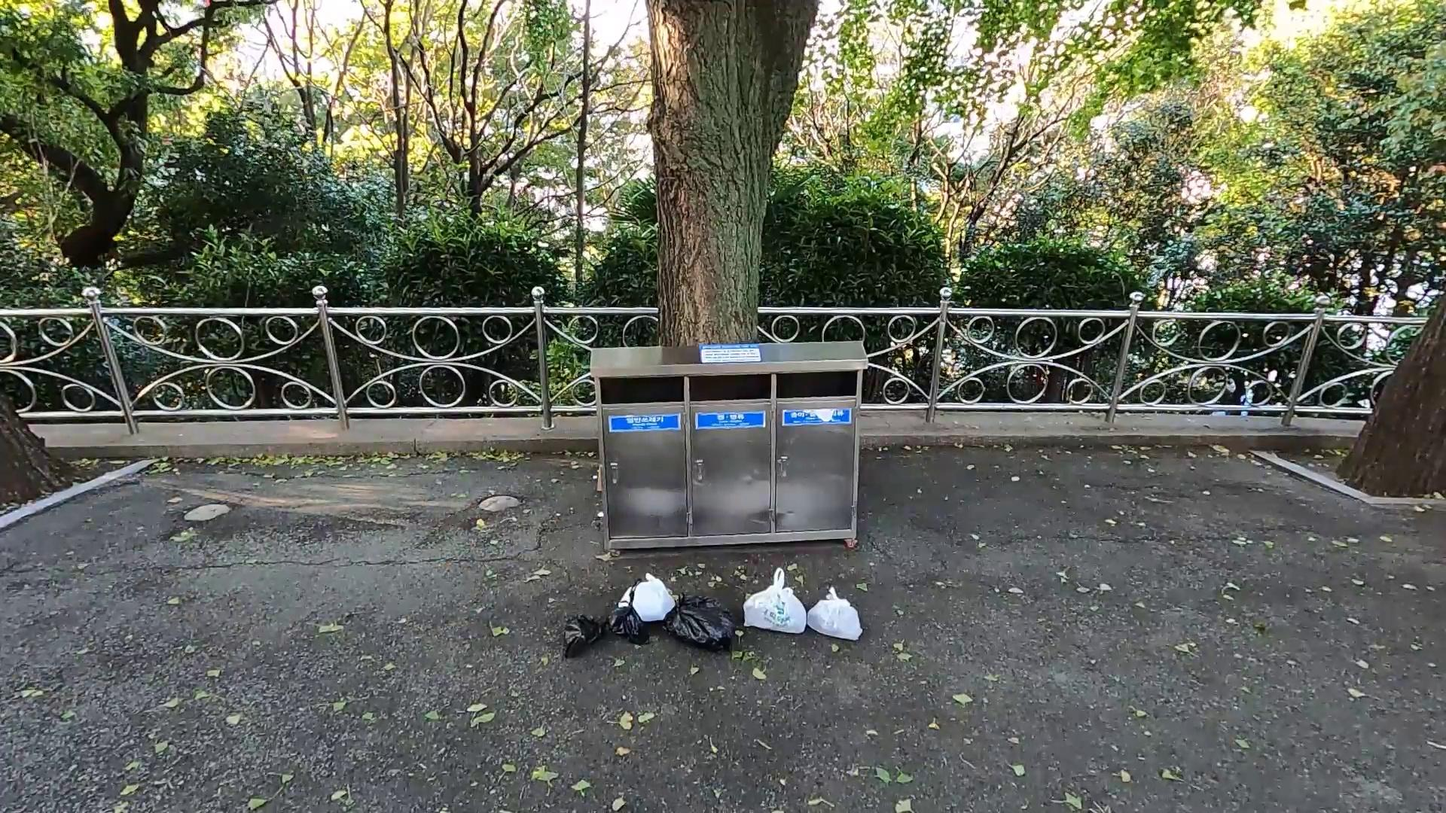trash: (664, 586, 737, 655), (743, 567, 810, 639), (805, 584, 865, 648), (616, 571, 678, 622), (560, 609, 607, 660), (606, 598, 652, 645)
